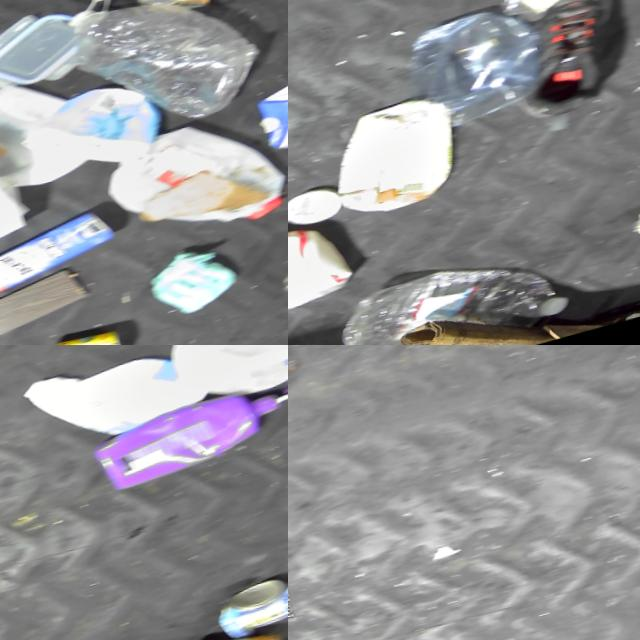can: (203, 580, 288, 640), (137, 0, 228, 24), (39, 330, 129, 345)
milk_jug: (100, 113, 288, 259), (319, 95, 462, 231), (145, 345, 288, 418)
non_white_jug: (95, 376, 288, 498)
plastic_bottle: (55, 0, 262, 147), (325, 245, 566, 345)
